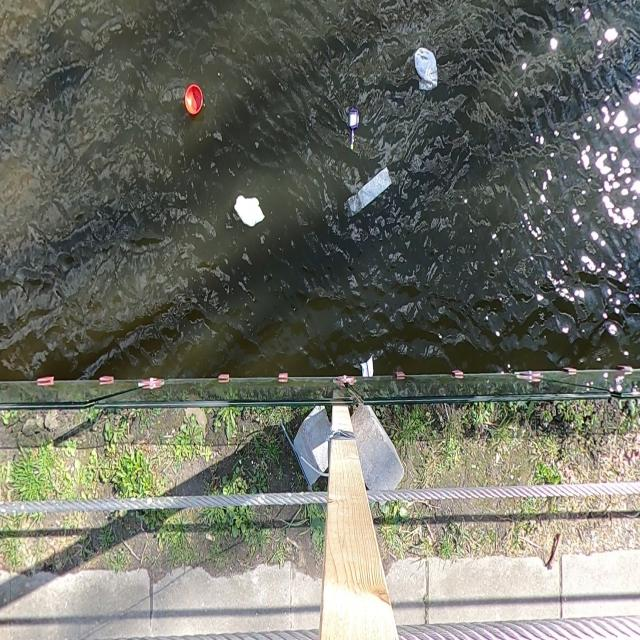Autre plastique: (230, 190, 269, 232), (180, 82, 209, 120)
Bouteille plastique: (345, 105, 361, 153)
Sac plastique: (338, 155, 399, 226), (410, 42, 440, 93)
